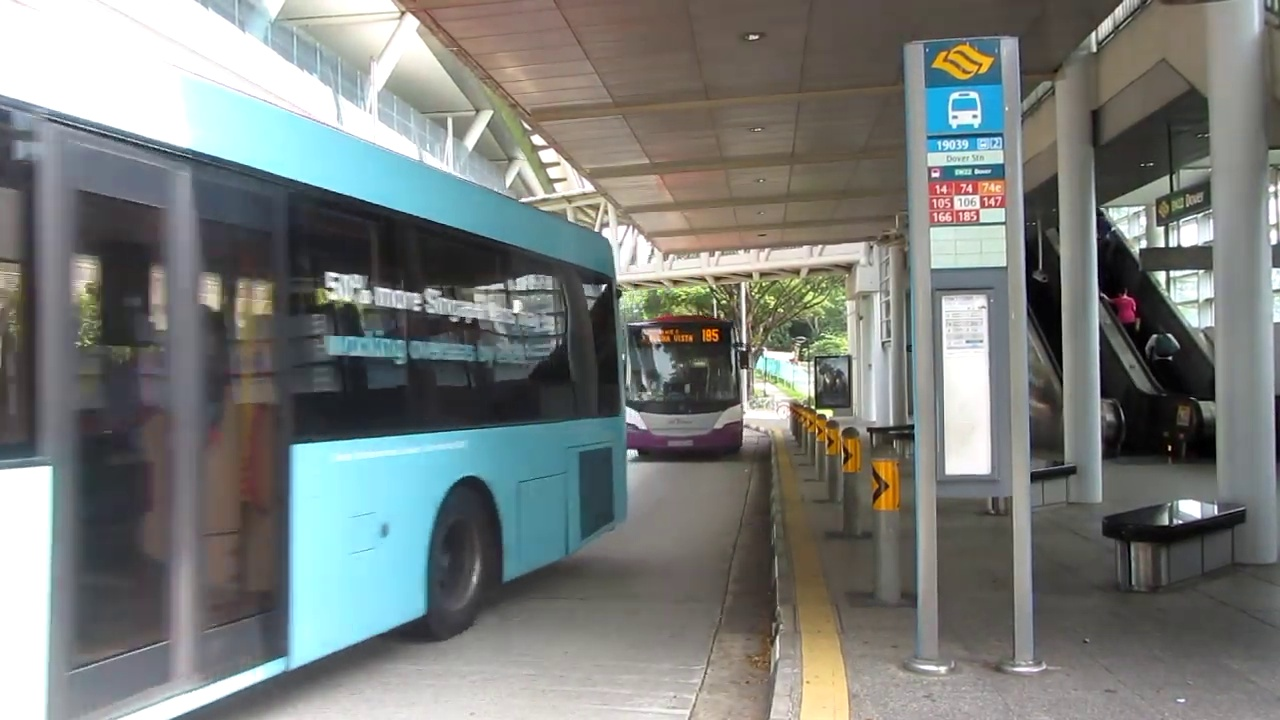bus panel: (638, 326, 722, 346)
